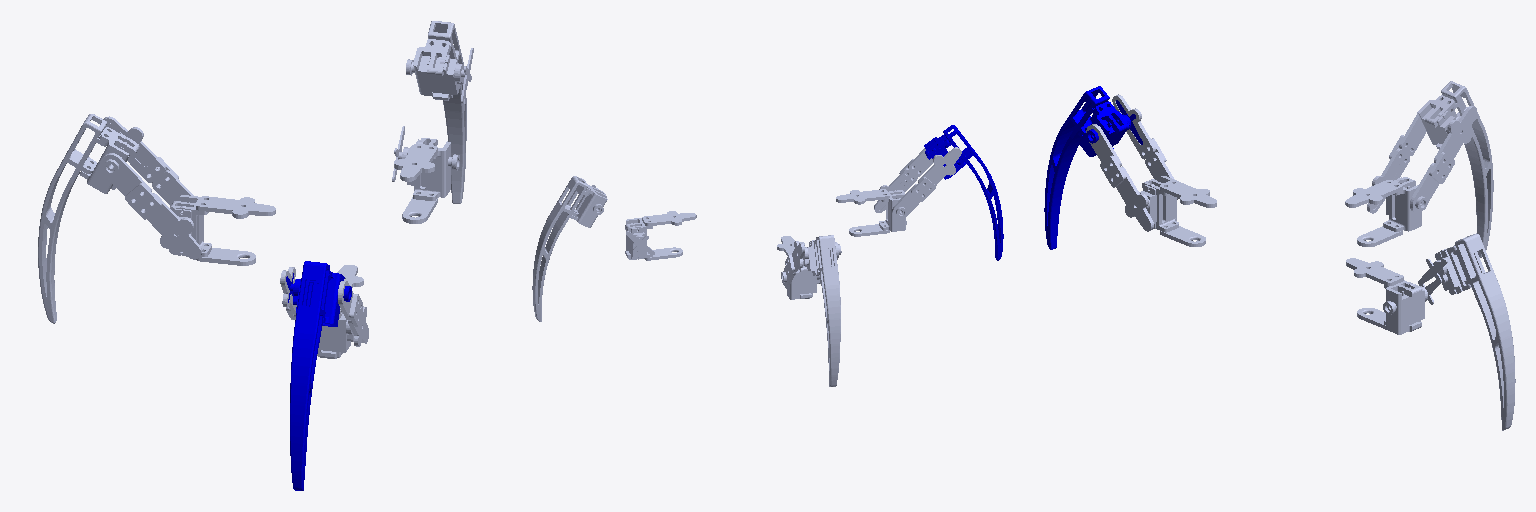
URDF robot description (laracna):
<?xml version="1.0" encoding="utf-8"?>
<!-- This URDF was automatically created by SolidWorks to URDF Exporter! Originally created by [author] ([email redacted]) 
     Commit Version: 1.6.0-4-g7f85cfe  Build Version: 1.6.7995.38578
     For more information, please see http://wiki.ros.org/sw_urdf_exporter -->
<robot
  name="laracna">
  <link
    name="base_link">
    <inertial>
      <origin
        xyz="-0.000549635703823248 0.000293483149070013 0.0112605913949021"
        rpy="0 0 0" />
      <mass
        value="0.14927705759424" />
      <inertia
        ixx="0.000100027721214231"
        ixy="2.4773581694314E-08"
        ixz="3.58371478829819E-08"
        iyy="0.000100884749929397"
        iyz="-6.97057666183732E-10"
        izz="0.000182270802115177" />
    </inertial>
    <visual>
      <origin
        xyz="0 0 0"
        rpy="0 0 0" />
      <geometry>
        <mesh
          filename="package://laracna/meshes/base_link.STL" />
      </geometry>
      <material
        name="">
        <color
          rgba="0.792156862745098 0.819607843137255 0.933333333333333 1" />
      </material>
    </visual>
    <collision>
      <origin
        xyz="0 0 0"
        rpy="0 0 0" />
      <geometry>
        <mesh
          filename="package://laracna/meshes/base_link.STL" />
      </geometry>
    </collision>
  </link>
  <link
    name="coxa_lt">
    <inertial>
      <origin
        xyz="0.0311676418899575 -0.0171857800823059 -0.000875524395070736"
        rpy="0 0 0" />
      <mass
        value="0.0168835876489626" />
      <inertia
        ixx="1.6952188219386E-06"
        ixy="3.83287227161093E-09"
        ixz="-1.68767618013711E-08"
        iyy="1.48581490331589E-06"
        iyz="2.67936341290949E-08"
        izz="1.77877429034646E-06" />
    </inertial>
    <visual>
      <origin
        xyz="0 0 0"
        rpy="0 0 0" />
      <geometry>
        <mesh
          filename="package://laracna/meshes/coxa_lt.STL" />
      </geometry>
      <material
        name="">
        <color
          rgba="0.792156862745098 0.819607843137255 0.933333333333333 1" />
      </material>
    </visual>
    <collision>
      <origin
        xyz="0 0 0"
        rpy="0 0 0" />
      <geometry>
        <mesh
          filename="package://laracna/meshes/coxa_lt.STL" />
      </geometry>
    </collision>
  </link>
  <joint
    name="coxa_lt_j"
    type="continuous">
    <origin
      xyz="0.062553 0.062977 0.0355"
      rpy="1.5708 0 0.7854" />
    <parent
      link="base_link" />
    <child
      link="coxa_lt" />
    <axis
      xyz="0 1 0" />
    <dynamics
      damping="0.1"
      friction="0.1" />
  </joint>
  <link
    name="femur_lt">
    <inertial>
      <origin
        xyz="0.0300000000000001 -4.00077503040497E-06 0.01775"
        rpy="0 0 0" />
      <mass
        value="0.0087586509816886" />
      <inertia
        ixx="2.35107438626411E-07"
        ixy="5.22778147133513E-22"
        ixz="-3.1996158667403E-09"
        iyy="1.10345188527737E-06"
        iyz="-4.49986253228847E-22"
        izz="1.32562067354555E-06" />
    </inertial>
    <visual>
      <origin
        xyz="0 0 0"
        rpy="0 0 0" />
      <geometry>
        <mesh
          filename="package://laracna/meshes/femur_lt.STL" />
      </geometry>
      <material
        name="">
        <color
          rgba="0.792156862745098 0.819607843137255 0.933333333333333 1" />
      </material>
    </visual>
    <collision>
      <origin
        xyz="0 0 0"
        rpy="0 0 0" />
      <geometry>
        <mesh
          filename="package://laracna/meshes/femur_lt.STL" />
      </geometry>
    </collision>
  </link>
  <joint
    name="femur_lt_j"
    type="continuous">
    <origin
      xyz="0.03814 -0.0126 -0.02153"
      rpy="0.0016676 0.0016676 0.7854" />
    <parent
      link="coxa_lt" />
    <child
      link="femur_lt" />
    <axis
      xyz="0 0 -1" />
    <dynamics
      damping="0.1"
      friction="0.1" />
  </joint>
  <link
    name="tibia_lt">
    <inertial>
      <origin
        xyz="0.0253797905900474 0.00775572324591811 -0.0209014190388057"
        rpy="0 0 0" />
      <mass
        value="0.0244656402037705" />
      <inertia
        ixx="2.23538745051556E-06"
        ixy="3.40903745188252E-06"
        ixz="2.67773943210154E-08"
        iyy="1.84244224176969E-05"
        iyz="-1.73318065631687E-08"
        izz="1.9115318342822E-05" />
    </inertial>
    <visual>
      <origin
        xyz="0 0 0"
        rpy="0 0 0" />
      <geometry>
        <mesh
          filename="package://laracna/meshes/tibia_lt.STL" />
      </geometry>
      <material
        name="">
        <color
          rgba="0.792156862745098 0.819607843137255 0.933333333333333 1" />
      </material>
    </visual>
    <collision>
      <origin
        xyz="0 0 0"
        rpy="0 0 0" />
      <geometry>
        <mesh
          filename="package://laracna/meshes/tibia_lt.STL" />
      </geometry>
    </collision>
  </link>
  <joint
    name="tibia_lt_j"
    type="continuous">
    <origin
      xyz="0.06 0 0.0355"
      rpy="0 0 -1.8112" />
    <parent
      link="femur_lt" />
    <child
      link="tibia_lt" />
    <axis
      xyz="0 0 1" />
    <dynamics
      damping="0.1"
      friction="0.1" />
  </joint>
  <link
    name="coxa_rt">
    <inertial>
      <origin
        xyz="0.0311676418899572 -0.0171857800823059 -0.000875524395071665"
        rpy="0 0 0" />
      <mass
        value="0.0168835876489626" />
      <inertia
        ixx="1.6952188219386E-06"
        ixy="3.83287227161071E-09"
        ixz="-1.68767618013712E-08"
        iyy="1.4858149033159E-06"
        iyz="2.6793634129095E-08"
        izz="1.77877429034646E-06" />
    </inertial>
    <visual>
      <origin
        xyz="0 0 0"
        rpy="0 0 0" />
      <geometry>
        <mesh
          filename="package://laracna/meshes/coxa_rt.STL" />
      </geometry>
      <material
        name="">
        <color
          rgba="0.792156862745098 0.819607843137255 0.933333333333333 1" />
      </material>
    </visual>
    <collision>
      <origin
        xyz="0 0 0"
        rpy="0 0 0" />
      <geometry>
        <mesh
          filename="package://laracna/meshes/coxa_rt.STL" />
      </geometry>
    </collision>
  </link>
  <joint
    name="coxa_rt_j"
    type="continuous">
    <origin
      xyz="0.062977 -0.062553 0.0355"
      rpy="1.5708 0 -0.7854" />
    <parent
      link="base_link" />
    <child
      link="coxa_rt" />
    <axis
      xyz="0 1 0" />
    <dynamics
      damping="0.1"
      friction="0.1" />
  </joint>
  <link
    name="femur_rt">
    <inertial>
      <origin
        xyz="0.0300000000000002 -4.00077503043272E-06 0.0177500000000002"
        rpy="0 0 0" />
      <mass
        value="0.00875865098168861" />
      <inertia
        ixx="2.35107438626411E-07"
        ixy="3.11019910319938E-22"
        ixz="-3.19961586674053E-09"
        iyy="1.10345188527737E-06"
        iyz="-5.29395592033938E-23"
        izz="1.32562067354555E-06" />
    </inertial>
    <visual>
      <origin
        xyz="0 0 0"
        rpy="0 0 0" />
      <geometry>
        <mesh
          filename="package://laracna/meshes/femur_rt.STL" />
      </geometry>
      <material
        name="">
        <color
          rgba="0.792156862745098 0.819607843137255 0.933333333333333 1" />
      </material>
    </visual>
    <collision>
      <origin
        xyz="0 0 0"
        rpy="0 0 0" />
      <geometry>
        <mesh
          filename="package://laracna/meshes/femur_rt.STL" />
      </geometry>
    </collision>
  </link>
  <joint
    name="femur_rt_j"
    type="continuous">
    <origin
      xyz="0.03814 -0.0126 -0.02153"
      rpy="0.0016676 0.0016676 0.7854" />
    <parent
      link="coxa_rt" />
    <child
      link="femur_rt" />
    <axis
      xyz="0 0 -1" />
    <dynamics
      damping="0.1"
      friction="0.1" />
  </joint>
  <link
    name="tibia_rt">
    <inertial>
      <origin
        xyz="0.0253787836129874 0.00775552687574976 -0.0209014202651868"
        rpy="0 0 0" />
      <mass
        value="0.0244656378567027" />
      <inertia
        ixx="2.23600314527494E-06"
        ixy="3.40756508842589E-06"
        ixz="2.67778945081145E-08"
        iyy="1.84237940567903E-05"
        iyz="-1.73325418847547E-08"
        izz="1.91153058367525E-05" />
    </inertial>
    <visual>
      <origin
        xyz="0 0 0"
        rpy="0 0 0" />
      <geometry>
        <mesh
          filename="package://laracna/meshes/tibia_rt.STL" />
      </geometry>
      <material
        name="">
        <color
          rgba="0 0 1 0.4" />
      </material>
    </visual>
    <collision>
      <origin
        xyz="0 0 0"
        rpy="0 0 0" />
      <geometry>
        <mesh
          filename="package://laracna/meshes/tibia_rt.STL" />
      </geometry>
    </collision>
  </link>
  <joint
    name="tibia_rt_j"
    type="continuous">
    <origin
      xyz="0.06 0 0.0355"
      rpy="0 0 -1.7368" />
    <parent
      link="femur_rt" />
    <child
      link="tibia_rt" />
    <axis
      xyz="0 0 1" />
    <dynamics
      damping="0.1"
      friction="0.1" />
  </joint>
  <link
    name="coxa_lb">
    <inertial>
      <origin
        xyz="0.0311676418899572 -0.0171857800823059 -0.000875524395071652"
        rpy="0 0 0" />
      <mass
        value="0.0168835876489626" />
      <inertia
        ixx="1.6952188219386E-06"
        ixy="3.83287227161071E-09"
        ixz="-1.68767618013713E-08"
        iyy="1.48581490331589E-06"
        iyz="2.67936341290954E-08"
        izz="1.77877429034646E-06" />
    </inertial>
    <visual>
      <origin
        xyz="0 0 0"
        rpy="0 0 0" />
      <geometry>
        <mesh
          filename="package://laracna/meshes/coxa_lb.STL" />
      </geometry>
      <material
        name="">
        <color
          rgba="0.792156862745098 0.819607843137255 0.933333333333333 1" />
      </material>
    </visual>
    <collision>
      <origin
        xyz="0 0 0"
        rpy="0 0 0" />
      <geometry>
        <mesh
          filename="package://laracna/meshes/coxa_lb.STL" />
      </geometry>
    </collision>
  </link>
  <joint
    name="coxa_lb_j"
    type="continuous">
    <origin
      xyz="-0.062977 0.062553 0.0355"
      rpy="1.5708 0 2.3562" />
    <parent
      link="base_link" />
    <child
      link="coxa_lb" />
    <axis
      xyz="0 1 0" />
    <dynamics
      damping="0.1"
      friction="0.1" />
  </joint>
  <link
    name="femur_lb">
    <inertial>
      <origin
        xyz="0.0300000000000009 -4.00077502987761E-06 0.0177499999999991"
        rpy="0 0 0" />
      <mass
        value="0.00875865098168862" />
      <inertia
        ixx="2.35107438626411E-07"
        ixy="-3.63959469523332E-22"
        ixz="-3.19961586674029E-09"
        iyy="1.10345188527737E-06"
        iyz="-2.64697796016969E-23"
        izz="1.32562067354555E-06" />
    </inertial>
    <visual>
      <origin
        xyz="0 0 0"
        rpy="0 0 0" />
      <geometry>
        <mesh
          filename="package://laracna/meshes/femur_lb.STL" />
      </geometry>
      <material
        name="">
        <color
          rgba="0.792156862745098 0.819607843137255 0.933333333333333 1" />
      </material>
    </visual>
    <collision>
      <origin
        xyz="0 0 0"
        rpy="0 0 0" />
      <geometry>
        <mesh
          filename="package://laracna/meshes/femur_lb.STL" />
      </geometry>
    </collision>
  </link>
  <joint
    name="femur_lb_j"
    type="continuous">
    <origin
      xyz="0.03814 -0.0126 -0.02153"
      rpy="0.0016676 0.0016676 0.7854" />
    <parent
      link="coxa_lb" />
    <child
      link="femur_lb" />
    <axis
      xyz="0 0 -1" />
    <dynamics
      damping="0.1"
      friction="0.1" />
  </joint>
  <link
    name="tibia_lb">
    <inertial>
      <origin
        xyz="0.0253809510265003 0.00775604947350703 -0.0209014173200577"
        rpy="0 0 0" />
      <mass
        value="0.0244656348900627" />
      <inertia
        ixx="2.23438595150403E-06"
        ixy="3.41065896314887E-06"
        ixz="2.67772313327167E-08"
        iyy="1.84254199029738E-05"
        iyz="-1.73318879537337E-08"
        izz="1.91153142596913E-05" />
    </inertial>
    <visual>
      <origin
        xyz="0 0 0"
        rpy="0 0 0" />
      <geometry>
        <mesh
          filename="package://laracna/meshes/tibia_lb.STL" />
      </geometry>
      <material
        name="">
        <color
          rgba="0.792156862745098 0.819607843137255 0.933333333333333 1" />
      </material>
    </visual>
    <collision>
      <origin
        xyz="0 0 0"
        rpy="0 0 0" />
      <geometry>
        <mesh
          filename="package://laracna/meshes/tibia_lb.STL" />
      </geometry>
    </collision>
  </link>
  <joint
    name="tibia_lb_j"
    type="continuous">
    <origin
      xyz="0.06 0 0.0355"
      rpy="0 0 -1.9" />
    <parent
      link="femur_lb" />
    <child
      link="tibia_lb" />
    <axis
      xyz="0 0 1" />
    <dynamics
      damping="0.1"
      friction="0.1" />
  </joint>
  <link
    name="coxa_rb">
    <inertial>
      <origin
        xyz="0.0311676418899572 -0.0171857800823059 -0.000875524395071652"
        rpy="0 0 0" />
      <mass
        value="0.0168835876489626" />
      <inertia
        ixx="1.6952188219386E-06"
        ixy="3.83287227161093E-09"
        ixz="-1.68767618013714E-08"
        iyy="1.48581490331589E-06"
        iyz="2.67936341290951E-08"
        izz="1.77877429034646E-06" />
    </inertial>
    <visual>
      <origin
        xyz="0 0 0"
        rpy="0 0 0" />
      <geometry>
        <mesh
          filename="package://laracna/meshes/coxa_rb.STL" />
      </geometry>
      <material
        name="">
        <color
          rgba="0.792156862745098 0.819607843137255 0.933333333333333 1" />
      </material>
    </visual>
    <collision>
      <origin
        xyz="0 0 0"
        rpy="0 0 0" />
      <geometry>
        <mesh
          filename="package://laracna/meshes/coxa_rb.STL" />
      </geometry>
    </collision>
  </link>
  <joint
    name="coxa_rb_j"
    type="continuous">
    <origin
      xyz="-0.062553 -0.062977 0.0355"
      rpy="1.5708 0 -2.3562" />
    <parent
      link="base_link" />
    <child
      link="coxa_rb" />
    <axis
      xyz="0 1 0" />
    <dynamics
      damping="0.1"
      friction="0.1" />
  </joint>
  <link
    name="femur_rb">
    <inertial>
      <origin
        xyz="0.0300000000000003 -4.00077503072416E-06 0.0177499999999999"
        rpy="0 0 0" />
      <mass
        value="0.00875865098168859" />
      <inertia
        ixx="2.35107438626411E-07"
        ixy="4.83073477730968E-22"
        ixz="-3.19961586674027E-09"
        iyy="1.10345188527737E-06"
        iyz="-1.32348898008484E-22"
        izz="1.32562067354555E-06" />
    </inertial>
    <visual>
      <origin
        xyz="0 0 0"
        rpy="0 0 0" />
      <geometry>
        <mesh
          filename="package://laracna/meshes/femur_rb.STL" />
      </geometry>
      <material
        name="">
        <color
          rgba="0.792156862745098 0.819607843137255 0.933333333333333 1" />
      </material>
    </visual>
    <collision>
      <origin
        xyz="0 0 0"
        rpy="0 0 0" />
      <geometry>
        <mesh
          filename="package://laracna/meshes/femur_rb.STL" />
      </geometry>
    </collision>
  </link>
  <joint
    name="femur_rb_j"
    type="continuous">
    <origin
      xyz="0.03814 -0.0126 -0.02153"
      rpy="0.0016676 0.0016676 0.7854" />
    <parent
      link="coxa_rb" />
    <child
      link="femur_rb" />
    <axis
      xyz="0 0 -1" />
    <dynamics
      damping="0.1"
      friction="0.1" />
  </joint>
  <link
    name="tibia_rb">
    <inertial>
      <origin
        xyz="0.0253791910136747 0.00775560067495526 -0.0209014204080387"
        rpy="0 0 0" />
      <mass
        value="0.0244656334997108" />
      <inertia
        ixx="2.23577183458242E-06"
        ixy="3.40819736904078E-06"
        ixz="2.67799753253576E-08"
        iyy="1.84240414657196E-05"
        iyz="-1.73326651729735E-08"
        izz="1.91153218769417E-05" />
    </inertial>
    <visual>
      <origin
        xyz="0 0 0"
        rpy="0 0 0" />
      <geometry>
        <mesh
          filename="package://laracna/meshes/tibia_rb.STL" />
      </geometry>
      <material
        name="">
        <color
          rgba="0 0 1 0.4" />
      </material>
    </visual>
    <collision>
      <origin
        xyz="0 0 0"
        rpy="0 0 0" />
      <geometry>
        <mesh
          filename="package://laracna/meshes/tibia_rb.STL" />
      </geometry>
    </collision>
  </link>
  <joint
    name="tibia_rb_j"
    type="continuous">
    <origin
      xyz="0.06 0 0.0355"
      rpy="0 0 -1.7681" />
    <parent
      link="femur_rb" />
    <child
      link="tibia_rb" />
    <axis
      xyz="0 0 1" />
    <dynamics
      damping="0.1"
      friction="0.1" />
  </joint>
</robot>

--- Facts derived from the render (not from the file) ---
3 views of the same robot in one strip: view 1: azimuth 30°, elevation 25°; view 2: azimuth 150°, elevation 25°; view 3: azimuth 270°, elevation 25° (orthographic).
Model laracna with 13 links and 12 joints (12 continuous), rooted at base_link, posed every joint at zero.
Links seen in each view (by area): view 1: tibia_rb, tibia_lt, tibia_lb, femur_lb, coxa_lt, coxa_lb, femur_rb, coxa_rb; view 2: tibia_lt, tibia_lb, femur_rb, tibia_rb, coxa_lt, coxa_rb, coxa_lb, femur_lb; view 3: tibia_lt, tibia_rb, tibia_lb, femur_rb, coxa_lt, femur_lb, coxa_lb, coxa_rb.
Boxes of the visible links, x1,y1,x2,y2 form: tibia_rb: [286, 261, 351, 490]; tibia_lt: [406, 21, 473, 203]; tibia_lb: [38, 114, 148, 323]; femur_lb: [100, 116, 201, 259]; coxa_lt: [392, 126, 459, 223]; coxa_lb: [169, 195, 275, 265]; femur_rb: [280, 267, 368, 346]; coxa_rb: [317, 265, 363, 358]; tibia_lt: [532, 176, 607, 321]; tibia_lb: [803, 235, 841, 386]; femur_rb: [874, 147, 961, 219]; tibia_rb: [924, 125, 1003, 260]; coxa_lt: [625, 211, 696, 260]; coxa_rb: [836, 180, 906, 236]; coxa_lb: [777, 236, 820, 299]; femur_lb: [783, 241, 838, 285]; tibia_lt: [1419, 233, 1515, 430]; tibia_rb: [1044, 86, 1142, 249]; tibia_lb: [1417, 81, 1493, 257]; femur_rb: [1086, 94, 1178, 231]; coxa_lt: [1346, 258, 1440, 334]; femur_lb: [1367, 106, 1476, 213]; coxa_lb: [1345, 164, 1427, 246]; coxa_rb: [1135, 176, 1216, 246].
Size in the robot's own frame: 0.3233 by 0.3418 by 0.1481 metres.
Meshes: 13 distinct files referenced, 8 mesh visuals loaded (8 binary STL); not drawn: 5 (reference not matched to a file when rendering).
